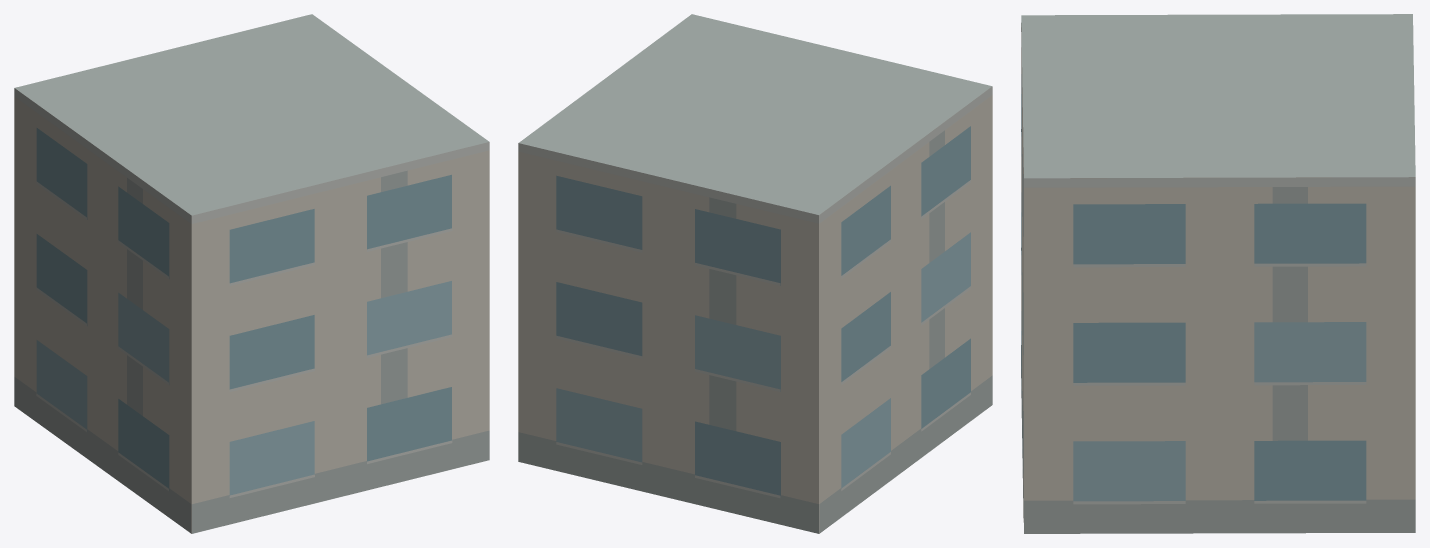
File: survey-upis-32500593.glb
3 renders of one model, left to right at view 1: azimuth 30°, elevation 25°; view 2: azimuth 150°, elevation 25°; view 3: azimuth 270°, elevation 25°, orthographic. The views are drawn at different scales.
Visible parts, largest first — view 1: survey-upis-32500593.tmp; view 2: survey-upis-32500593.tmp; view 3: survey-upis-32500593.tmp.
Part boxes in pixels (<box>): survey-upis-32500593.tmp: <box>14,14,489,533</box>; survey-upis-32500593.tmp: <box>518,14,992,533</box>; survey-upis-32500593.tmp: <box>1021,14,1415,533</box>.
Bounding box in the file's own units: 9.07 × 9.15 × 9.21.
